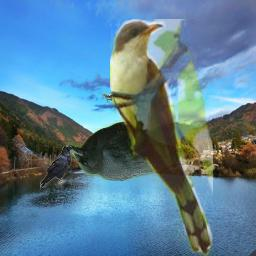Crow: (68, 92, 182, 181), (40, 145, 72, 188)
Cuckoo: (110, 19, 213, 256)
